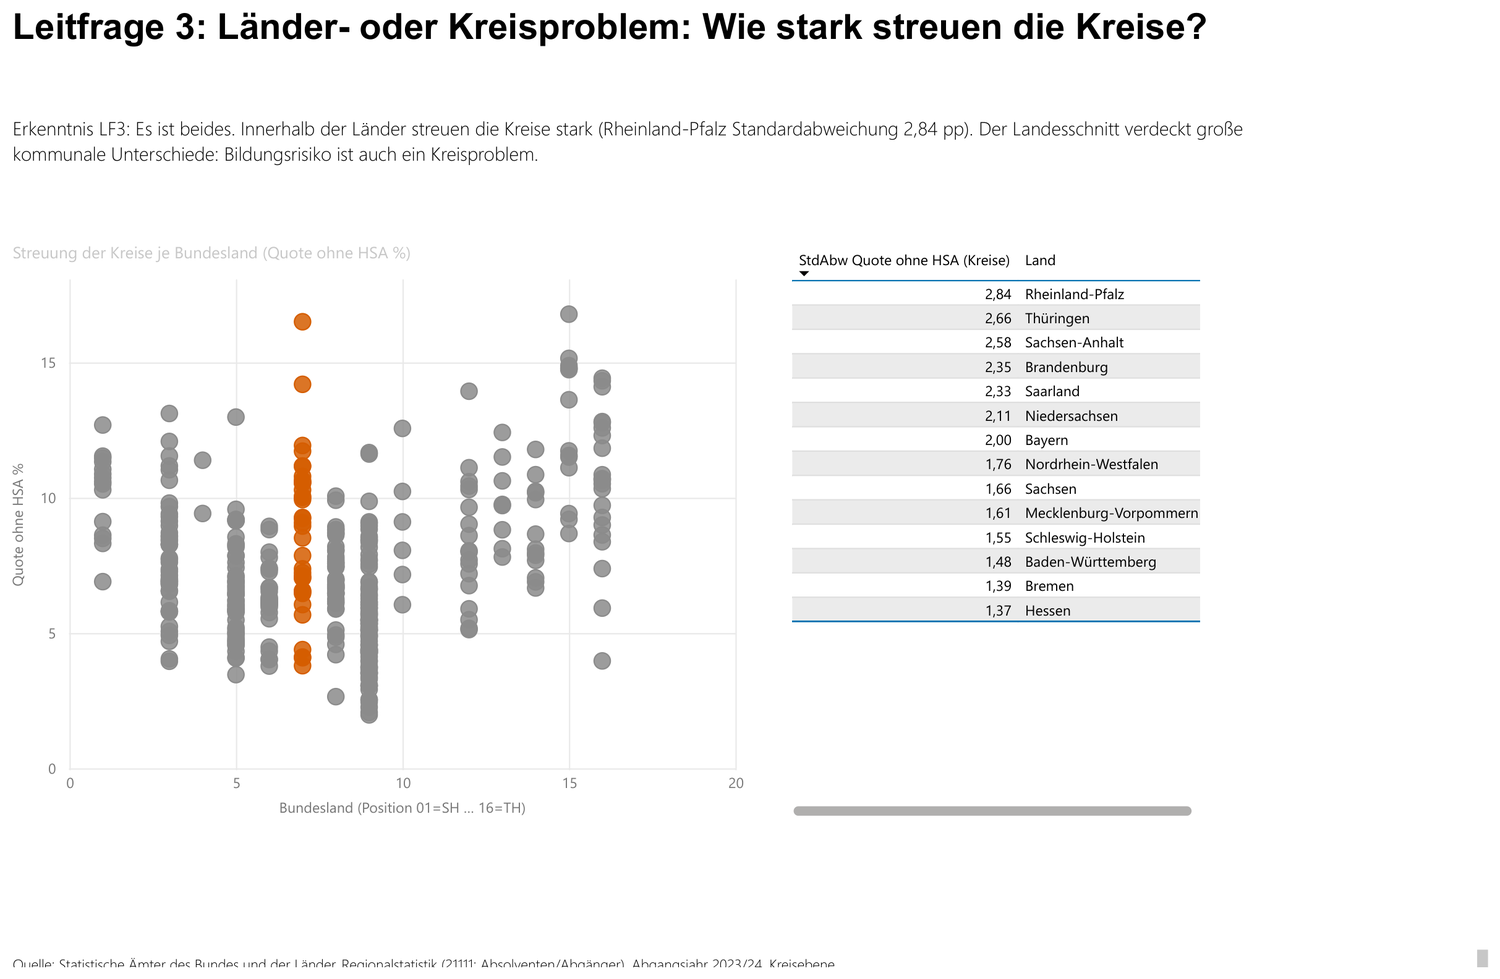

The page's visual inventory and layout, read from the dashboard file:
{"tool":"powerbi","page":{"name":"LF3 Streuung ohne HSA je Kreis","canvas":[1280,720],"ordinal":3},"visuals":[{"type":"tableEx","fields":{"Values":["dim_abschluss.StdAbw Quote ohne HSA (Kreise)","dim_region.Land"]},"box":[598.8,177.5,312.5,431.2],"z":0},{"type":"textbox","box":[24,80,927.2,58.8],"z":1000},{"type":"textbox","box":[24,0,1067,83],"z":2000},{"type":"scatterChart","title":"Streuung der Kreise je Bundesland (Quote ohne HSA %)","fields":{"Category":["dim_region.region_code"],"X":["dim_abschluss.BL-Position"],"Y":["dim_abschluss.Quote ohne HSA %"]},"box":[24,177.5,550,431.2],"z":3000},{"type":"textbox","box":[24,697,1100,23],"z":8500}]}

Visuals, with their boxes on the page's 1280x720 design canvas (x1, y1, x2, y2). These are canvas units, not pixel positions in the 1500x979 screenshot, which may show the page scaled, cropped or inside an application window:
tableEx - dim_abschluss.StdAbw Quote ohne HSA (Kreise) x dim_region.Land: box=[599, 178, 911, 609]
textbox: box=[24, 80, 951, 139]
textbox: box=[24, 0, 1091, 83]
"Streuung der Kreise je Bundesland (Quote ohne HSA %)" scatterChart: box=[24, 178, 574, 609]
textbox: box=[24, 697, 1124, 720]
